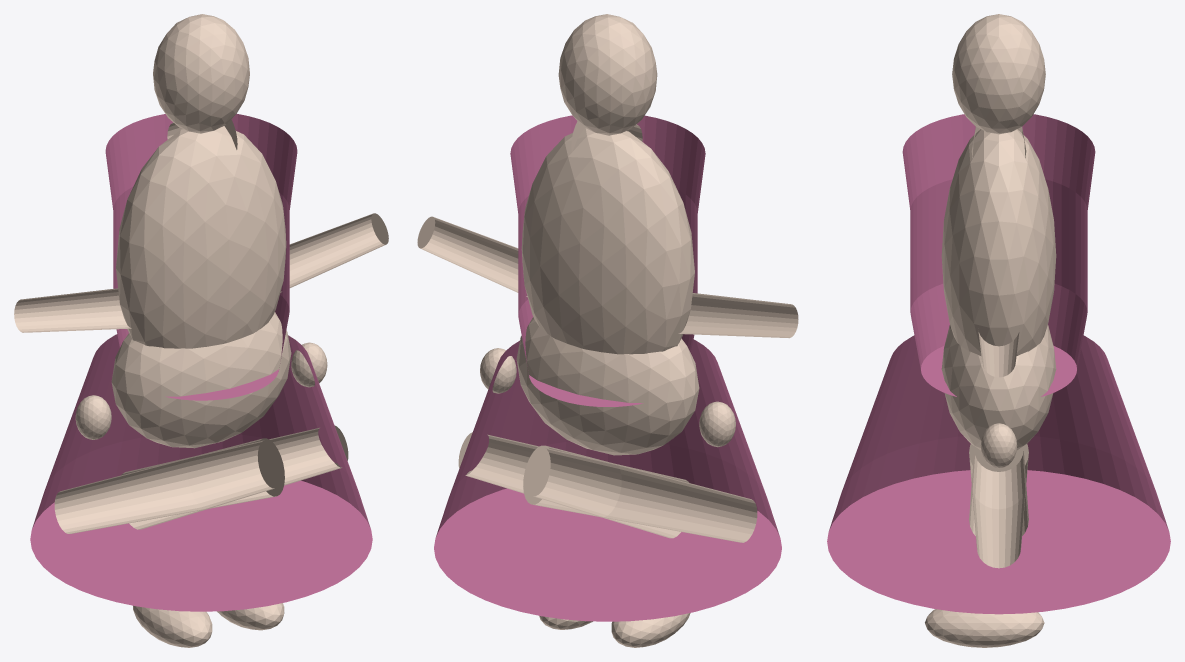
Rendered from femenino-conjunto.glb.
3 views of the same model, side by side, from view 1: azimuth 30°, elevation 25°; view 2: azimuth 150°, elevation 25°; view 3: azimuth 270°, elevation 25° (orthographic).
Parts seen in each view (by area): view 1: Prenda, Avatar0, Avatar1, Avatar3, Avatar4, Avatar8, Avatar6, Avatar10, Avatar5, Avatar7, Avatar9, Avatar11; view 2: Prenda, Avatar0, Avatar1, Avatar3, Avatar4, Avatar8, Avatar6, Avatar10, Avatar5, Avatar7, Avatar11; view 3: Prenda, Avatar0, Avatar3, Avatar1, Avatar8, Avatar9, Avatar4, Avatar11, Avatar10.
Part boxes in pixels (bbox=[...]): Prenda: bbox=[30, 114, 372, 611]; Avatar0: bbox=[116, 126, 286, 348]; Avatar1: bbox=[111, 312, 291, 448]; Avatar3: bbox=[153, 14, 249, 133]; Avatar4: bbox=[54, 438, 284, 533]; Avatar8: bbox=[121, 425, 348, 529]; Avatar6: bbox=[14, 288, 131, 332]; Avatar10: bbox=[280, 213, 388, 292]; Avatar5: bbox=[133, 605, 212, 647]; Avatar7: bbox=[75, 395, 111, 439]; Avatar9: bbox=[217, 603, 284, 630]; Avatar11: bbox=[291, 342, 327, 387]; Prenda: bbox=[434, 115, 781, 621]; Avatar0: bbox=[521, 128, 694, 354]; Avatar1: bbox=[516, 317, 699, 455]; Avatar3: bbox=[558, 14, 657, 135]; Avatar4: bbox=[523, 445, 757, 542]; Avatar8: bbox=[458, 432, 689, 538]; Avatar6: bbox=[678, 293, 798, 338]; Avatar10: bbox=[417, 216, 527, 296]; Avatar5: bbox=[611, 613, 690, 647]; Avatar7: bbox=[699, 401, 735, 447]; Avatar11: bbox=[480, 348, 516, 393]; Prenda: bbox=[827, 114, 1170, 614]; Avatar0: bbox=[941, 129, 1056, 355]; Avatar3: bbox=[952, 14, 1045, 134]; Avatar1: bbox=[941, 325, 1056, 450]; Avatar8: bbox=[969, 444, 1028, 568]; Avatar9: bbox=[925, 609, 1044, 647]; Avatar4: bbox=[969, 451, 1028, 535]; Avatar11: bbox=[980, 423, 1017, 468]; Avatar10: bbox=[978, 332, 1019, 377].
Bounding box in the file's own units: 1.61 × 2.58 × 1.32.
